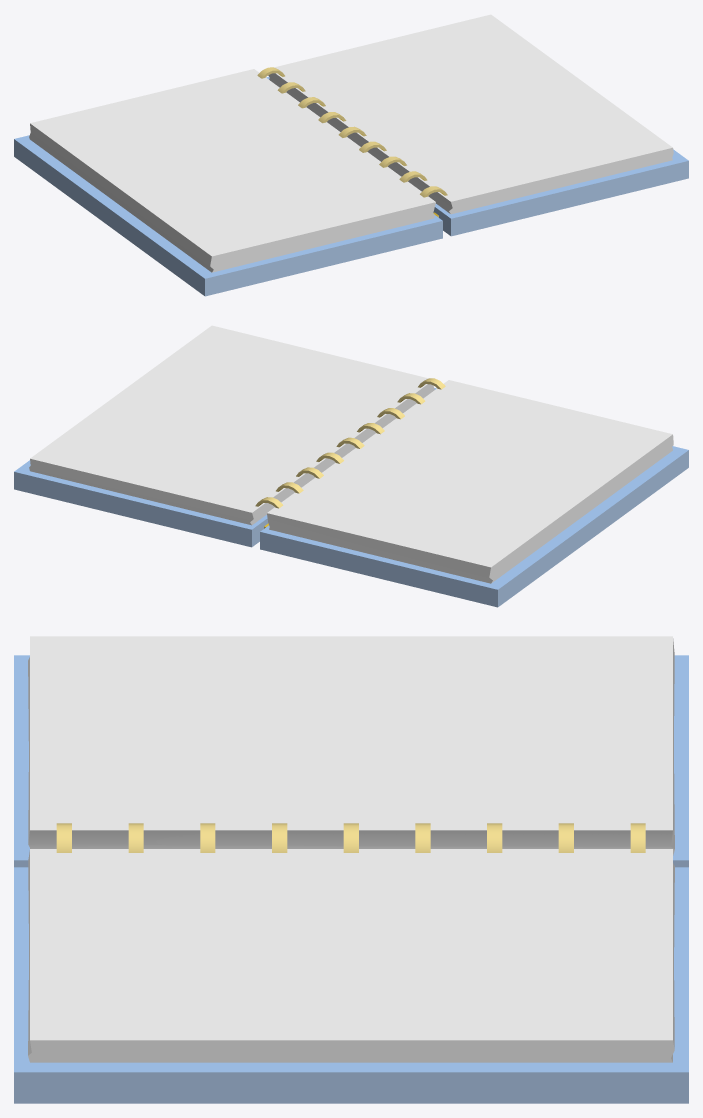
The model's file is 3d_BlockNote.fbx.
The picture shows the model from 3 angles, top to bottom: view 1: azimuth 30°, elevation 25°; view 2: azimuth 150°, elevation 25°; view 3: azimuth 270°, elevation 25°; orthographic projection. The views are drawn at different scales.
Parts seen in each view (by area): view 1: 3d_BlockNote; view 2: 3d_BlockNote; view 3: 3d_BlockNote.
Part boxes in pixels (bbox=[...]): 3d_BlockNote: bbox=[14, 14, 688, 296]; 3d_BlockNote: bbox=[14, 325, 688, 607]; 3d_BlockNote: bbox=[14, 636, 688, 1103].
Bounding box in the file's own units: 0.3224 × 0.0249 × 0.2205.
